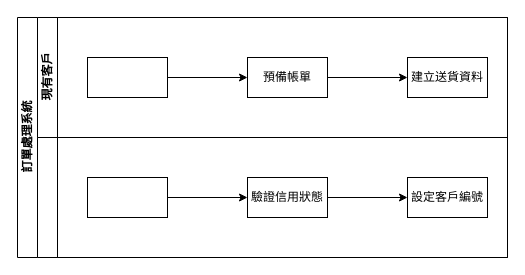
Image size: 525x275. Some labels were removed from this diagram. The shapes that lost their labels are listed below. From the top down, each one's box as (x1, y1, x2, y2) in pixels, then its label:
(86, 56, 168, 98): 處理訂單
(86, 176, 168, 218): 取得信用資料
(36, 136, 508, 258): 新客戶
